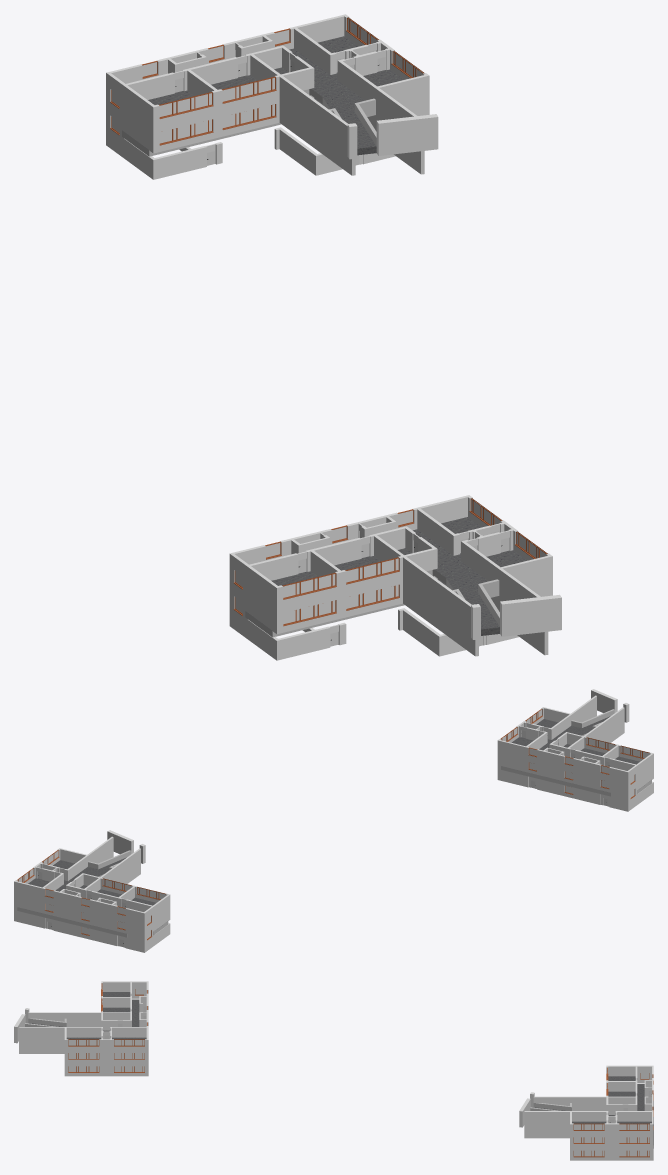
File: NeubauVersion1Test.fbx
3 renders of one model, top to bottom at view 1: azimuth 30°, elevation 25°; view 2: azimuth 150°, elevation 25°; view 3: azimuth 270°, elevation 25°, orthographic. The views are drawn at different scales.
Parts seen in each view (by area): view 1: Neubau, Neubau.080|Neubau|Dupli|46, Neubau.080|Cube.180|Dupli|40, Cube.180, Plane.254, Neubau.080|Plane.254|Dupli|42, Neubau.080|Cube.181|Dupli|41, Cube.181; view 2: Neubau.080|Neubau|Dupli|46, Neubau, Plane.254, Neubau.080|Plane.254|Dupli|42, Neubau.080|Plane.000|Dupli|126, Plane.000, Cube.180, Neubau.080|Cube.180|Dupli|40; view 3: Neubau.080|Neubau|Dupli|46, Neubau, Plane.254, Neubau.080|Plane.254|Dupli|42, Neubau.031, Neubau.080|Neubau.031|Dupli|77.
Boxes of the visible parts, x1,y1,x2,y2 form: Neubau: (229, 495, 552, 660); Neubau.080|Neubau|Dupli|46: (106, 14, 429, 179); Neubau.080|Cube.180|Dupli|40: (347, 114, 438, 159); Cube.180: (471, 594, 561, 639); Plane.254: (271, 517, 526, 585); Neubau.080|Plane.254|Dupli|42: (148, 36, 403, 104); Neubau.080|Cube.181|Dupli|41: (322, 90, 376, 155); Cube.181: (446, 571, 499, 635); Neubau.080|Neubau|Dupli|46: (14, 836, 170, 952); Neubau: (497, 695, 653, 811); Plane.254: (511, 719, 639, 764); Neubau.080|Plane.254|Dupli|42: (28, 860, 155, 905); Neubau.080|Plane.000|Dupli|126: (17, 907, 168, 937); Plane.000: (501, 766, 651, 796); Cube.180: (591, 689, 629, 722); Neubau.080|Cube.180|Dupli|40: (107, 830, 145, 863); Neubau.080|Neubau|Dupli|46: (524, 1065, 653, 1160); Neubau: (19, 981, 148, 1076); Plane.254: (66, 992, 146, 1039); Neubau.080|Plane.254|Dupli|42: (572, 1076, 651, 1123); Neubau.031: (25, 1018, 66, 1026); Neubau.080|Neubau.031|Dupli|77: (530, 1103, 571, 1110).
Bounding box in the file's own units: 9865 × 1510 × 17576.
